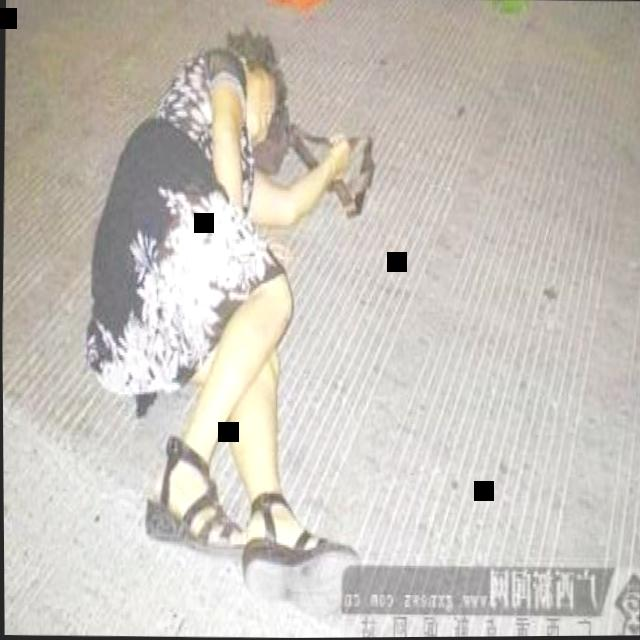Fall-Detected: (62, 8, 385, 621)
